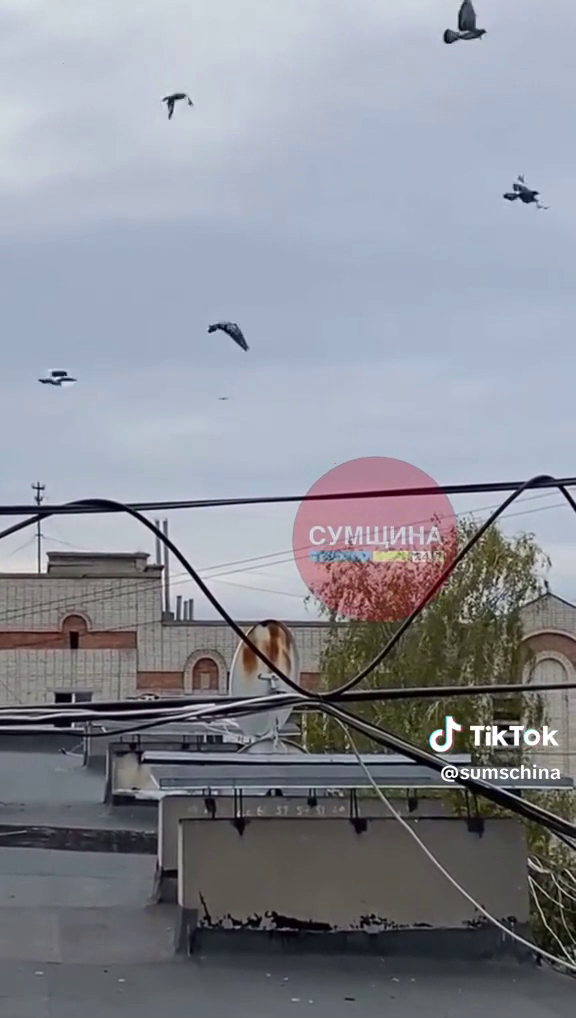not_drone: (497, 166, 554, 218), (438, 0, 490, 55), (202, 314, 253, 354), (154, 85, 196, 122), (34, 360, 79, 391)
